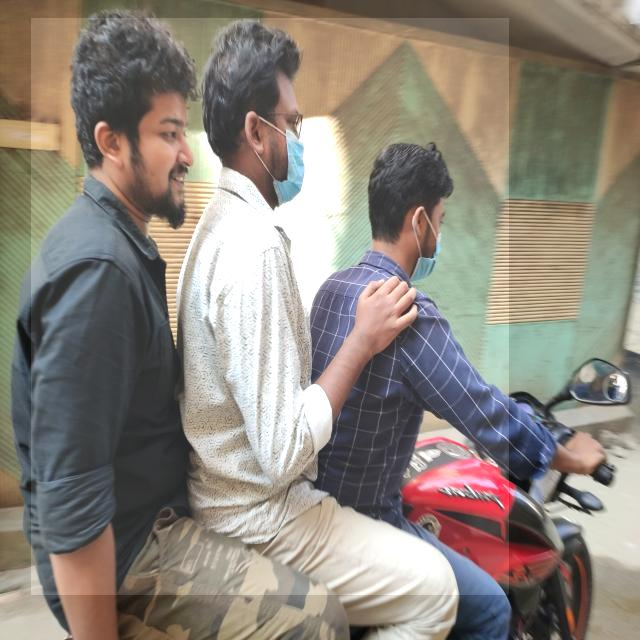Overloading: (31, 18, 509, 595)
